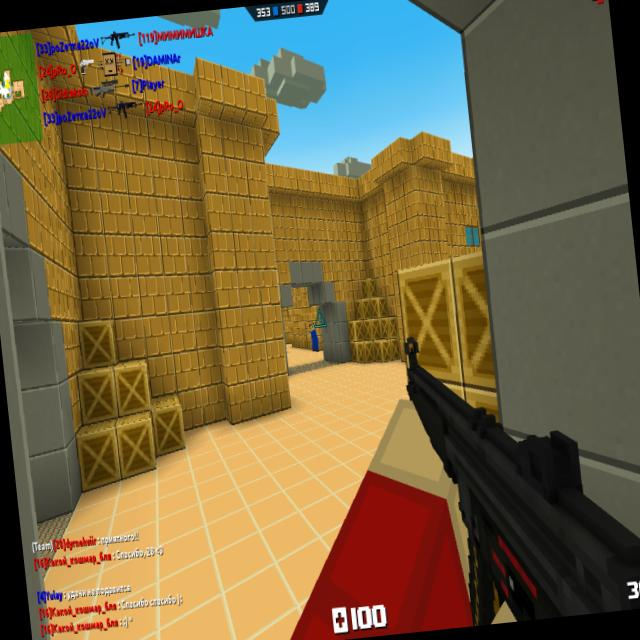enemy: (307, 322, 320, 353)
